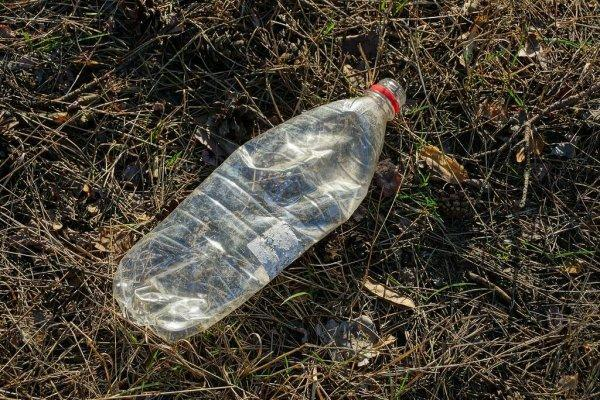bottle: (91, 40, 427, 354)
